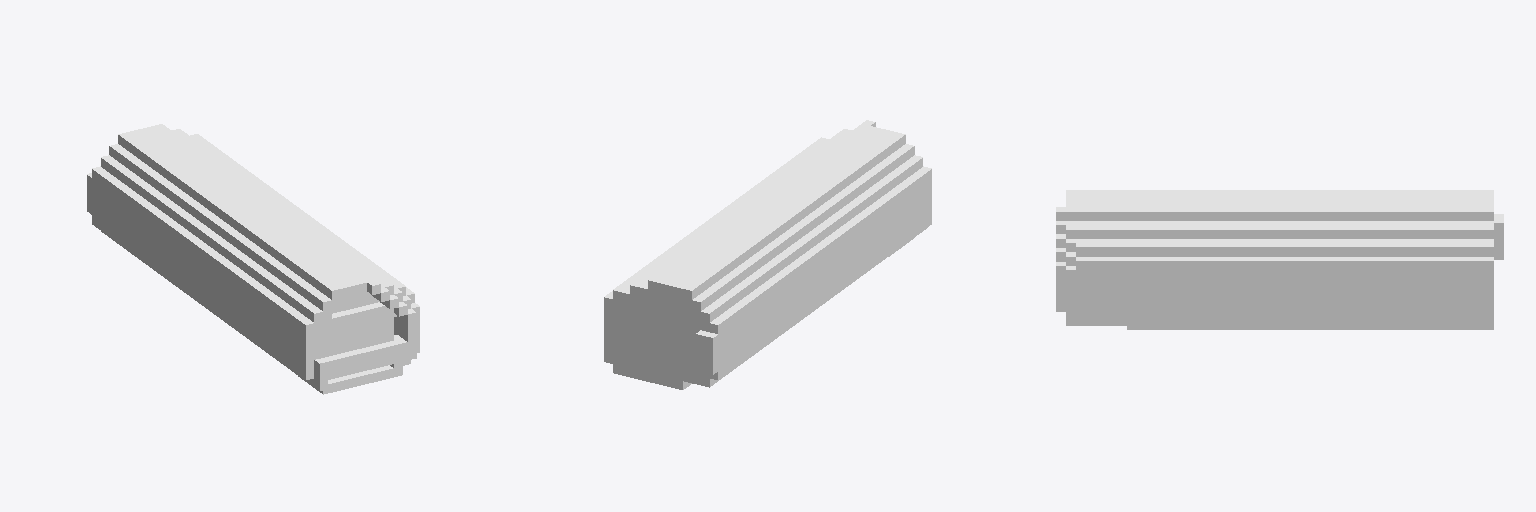
Rendered from PreCheck_Snake1-2.obj.
3 renders of one model, left to right at view 1: azimuth 30°, elevation 25°; view 2: azimuth 150°, elevation 25°; view 3: azimuth 270°, elevation 25°, orthographic.
Parts seen in each view (by area): view 1: object 1; view 2: object 1; view 3: object 1.
Part boxes in pixels (x1,y1,x2,y2): object 1: (87, 124, 419, 394); object 1: (604, 120, 931, 389); object 1: (1056, 190, 1503, 329).
Bounding box in the file's own units: 1.3 × 1.1 × 4.4.